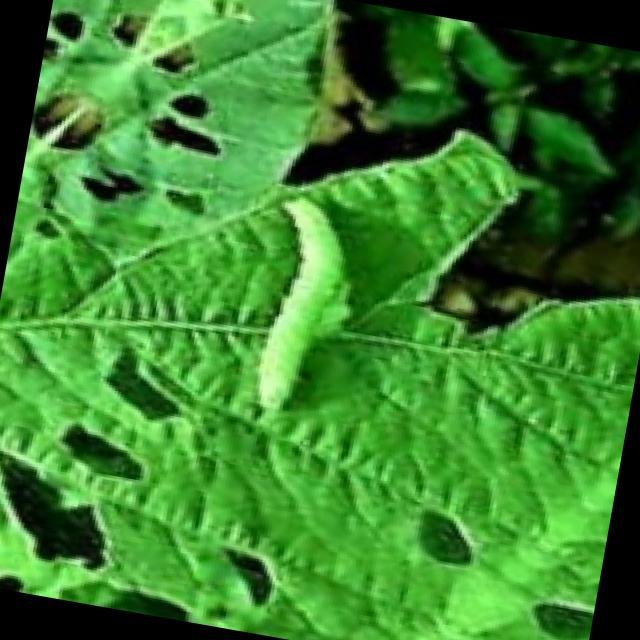Armyworm: (192, 187, 380, 432)
Armyworm_damage: (400, 505, 498, 584), (206, 544, 297, 617), (146, 106, 221, 178), (521, 590, 596, 640)
